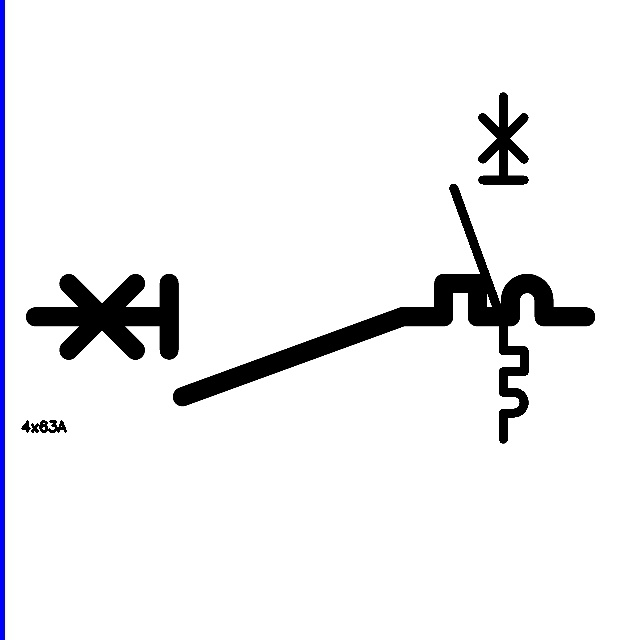interruptor_termomagnetico: (21, 269, 600, 410), (445, 88, 533, 448)
